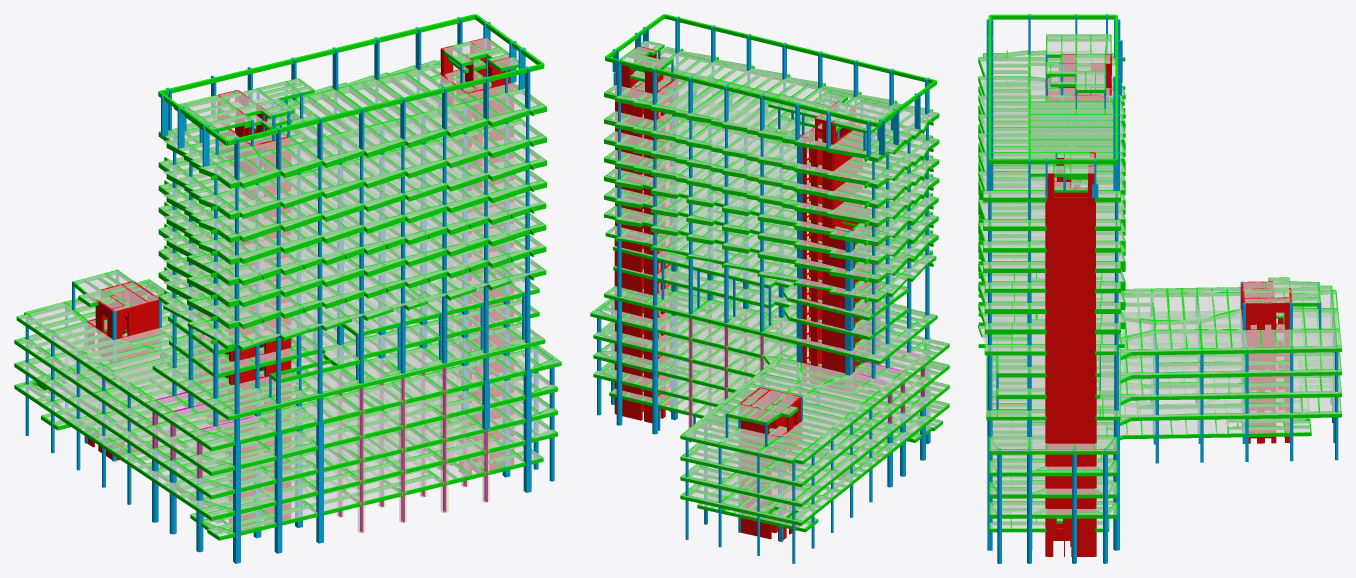
The model's file is 医院T1_1_view.glb.
3 renders of one model, left to right at view 1: azimuth 30°, elevation 25°; view 2: azimuth 150°, elevation 25°; view 3: azimuth 270°, elevation 25°, orthographic. The views are drawn at different scales.
Parts seen in each view (by area): view 1: Floor_3D1, Beam_3D1, Column_3D1, Pier_3D1, Column_C50_SDSection3D1, Column_Q355_SDSection3D1; view 2: Floor_3D1, Beam_3D1, Column_3D1, Pier_3D1, Column_C50_SDSection3D1, Spandrel_3D1, Column_Q355_SDSection3D1; view 3: Floor_3D1, Beam_3D1, Pier_3D1, Column_3D1, Spandrel_3D1.
Part boxes in pixels (bbox=[...]): Floor_3D1: bbox=[15, 38, 560, 536]; Beam_3D1: bbox=[14, 14, 561, 540]; Column_3D1: bbox=[25, 17, 554, 563]; Pier_3D1: bbox=[87, 38, 513, 530]; Column_C50_SDSection3D1: bbox=[152, 368, 489, 533]; Column_Q355_SDSection3D1: bbox=[152, 354, 487, 532]; Floor_3D1: bbox=[592, 41, 948, 528]; Beam_3D1: bbox=[590, 14, 949, 532]; Column_3D1: bbox=[597, 16, 930, 563]; Pier_3D1: bbox=[614, 46, 880, 540]; Column_C50_SDSection3D1: bbox=[688, 318, 925, 442]; Spandrel_3D1: bbox=[634, 76, 822, 495]; Column_Q355_SDSection3D1: bbox=[689, 306, 924, 442]; Floor_3D1: bbox=[979, 34, 1341, 528]; Beam_3D1: bbox=[978, 14, 1341, 532]; Pier_3D1: bbox=[1045, 54, 1292, 556]; Column_3D1: bbox=[986, 14, 1338, 563]; Spandrel_3D1: bbox=[1045, 59, 1284, 540].
Bounding box in the file's own units: 73376 × 81900 × 68043.
